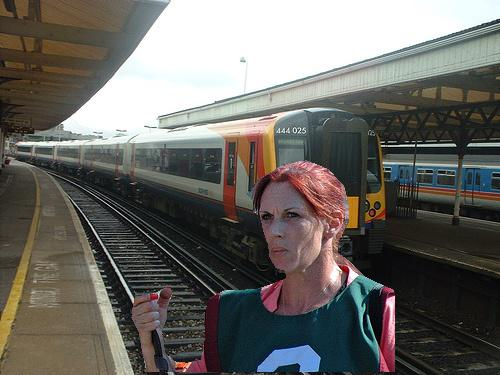tampered: (132, 161, 395, 372)
